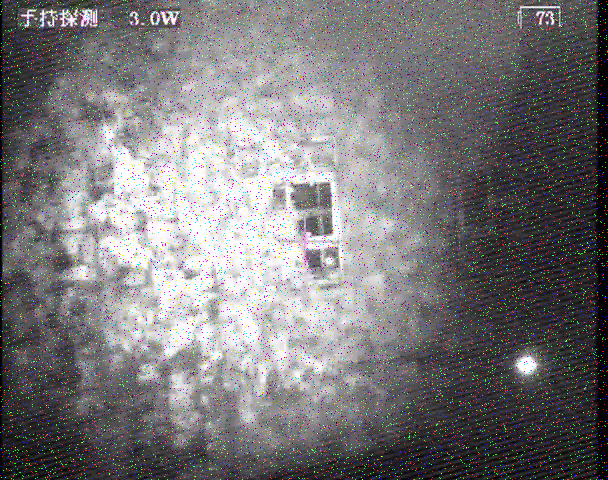my: (325, 256, 335, 267)
